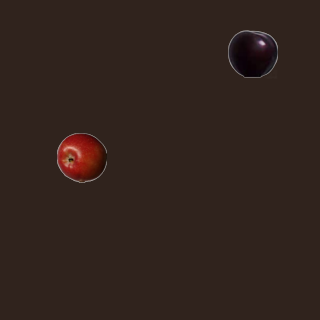Apple Braeburn: (56, 132, 106, 182)
Cherry Wax Black: (227, 28, 277, 78)
